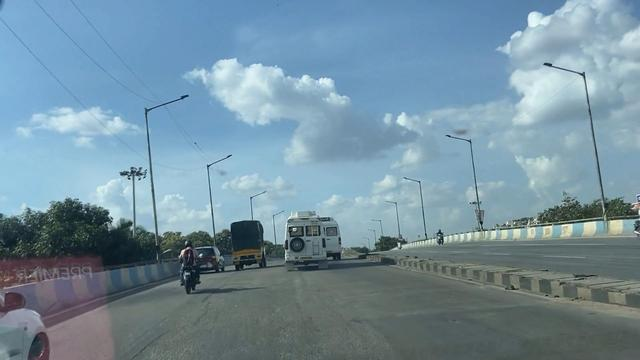HMV: (281, 207, 322, 265), (225, 218, 264, 268), (320, 217, 332, 266)
LMV: (177, 239, 209, 290)
RoadDamages: (123, 316, 373, 357)
